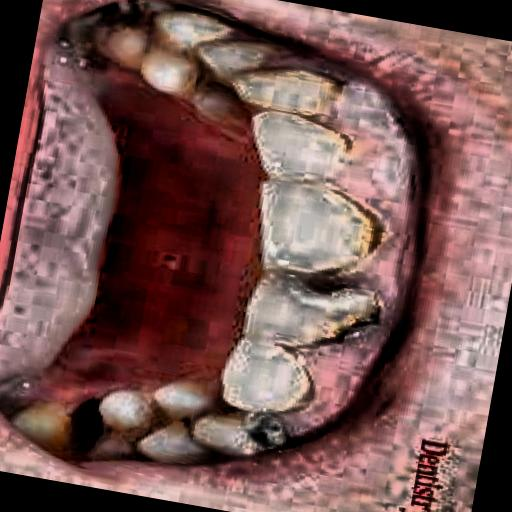Caries: (37, 350, 312, 512), (251, 202, 432, 352)
